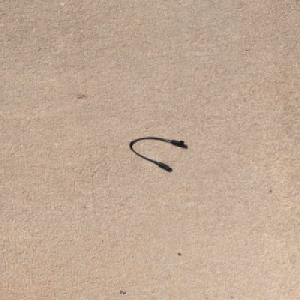Wire: (128, 136, 187, 171)
